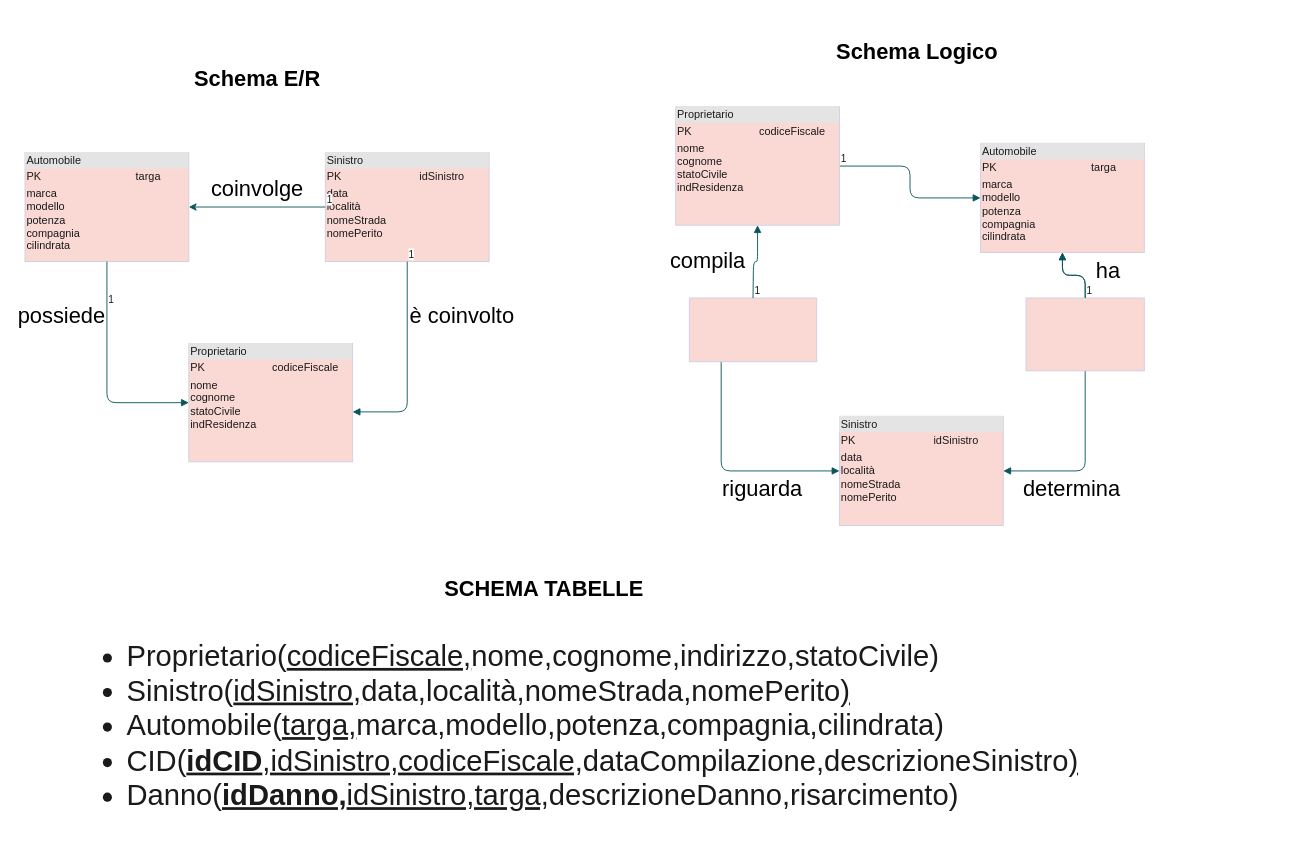
Image size: 1305x868. Some labels were removed from this diagram. Here are the shapes that lost their labels. From the top down, the box of each, then its label:
(688, 297, 817, 362): CID PK idCID dataCompilazione descrizioneSinistro
(1025, 297, 1144, 371): Danno PK idDanno descrizione risarcimento
